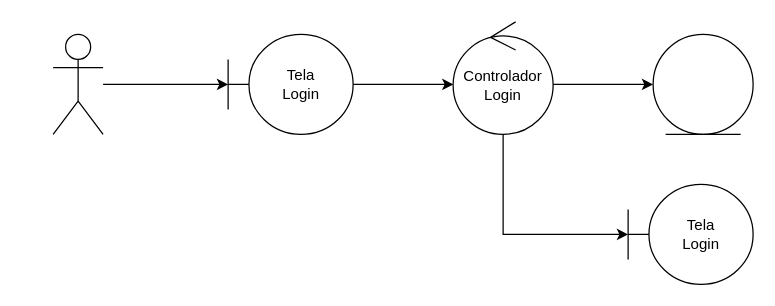
This 775x306 diagram has some shape labels left out. The centre of each missing label's shape, as x and y in pixels:
BD Usuários: the point at 702,83
Usuário Anônimo: the point at 77,83
